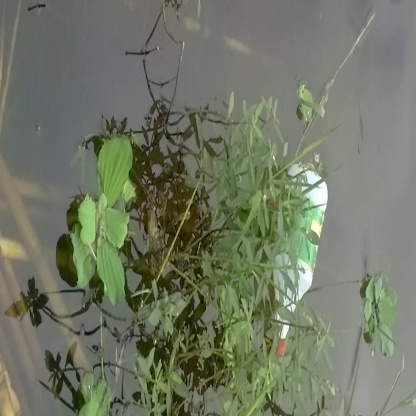bottle: (271, 157, 335, 353)
